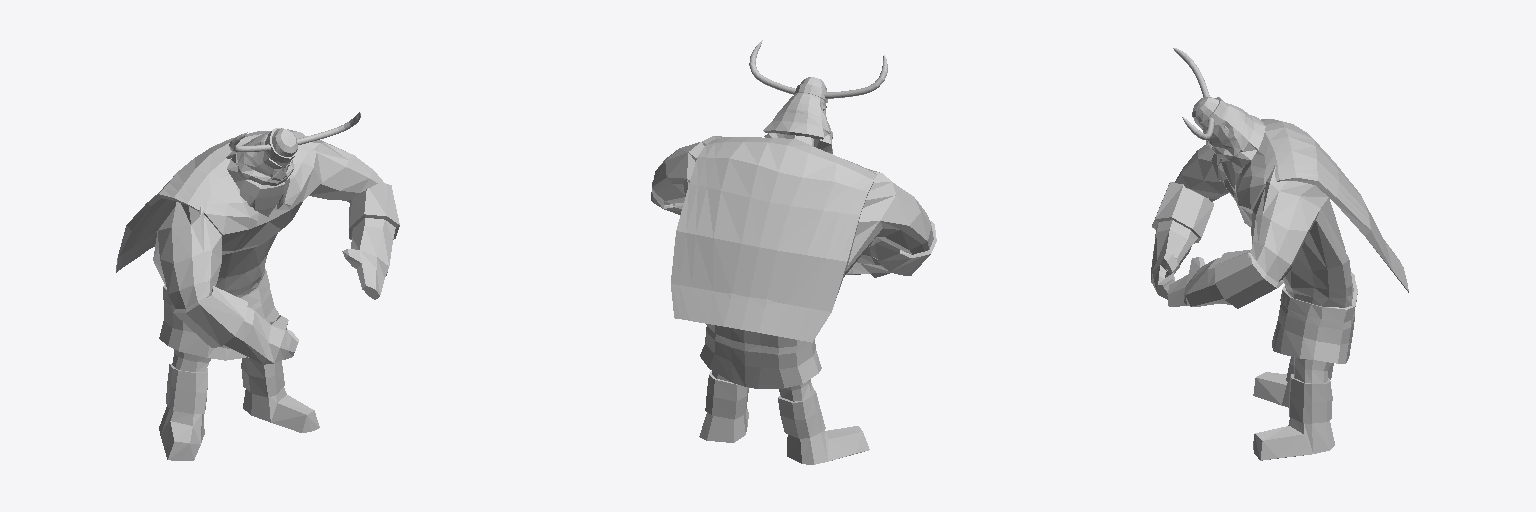
File: vikingoCelebracionobj_000471.obj
The picture shows the model from 3 angles: view 1: azimuth 30°, elevation 25°; view 2: azimuth 150°, elevation 25°; view 3: azimuth 270°, elevation 25°; orthographic projection.
Visible parts, largest first — view 1: Vikingo; view 2: Vikingo; view 3: Vikingo.
Part boxes in pixels (x1,y1,x2,y2): Vikingo: (116, 112, 399, 460); Vikingo: (651, 40, 936, 464); Vikingo: (1151, 48, 1408, 460).
Bounding box in the file's own units: 4.66 × 6.41 × 4.21.